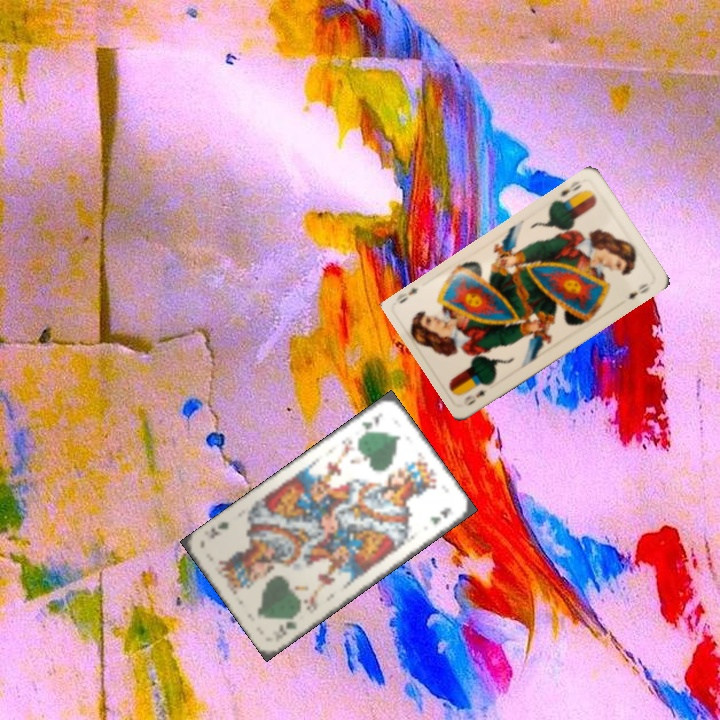EO: (552, 176, 590, 206), (460, 385, 490, 409)
GK: (356, 409, 386, 440), (281, 610, 300, 633)
